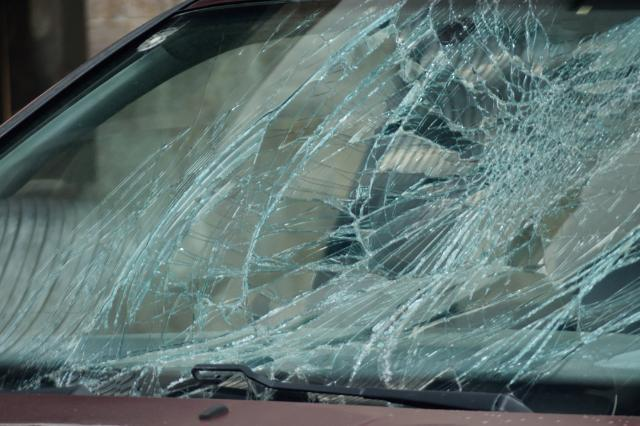glass shatter: (0, 0, 640, 417)
